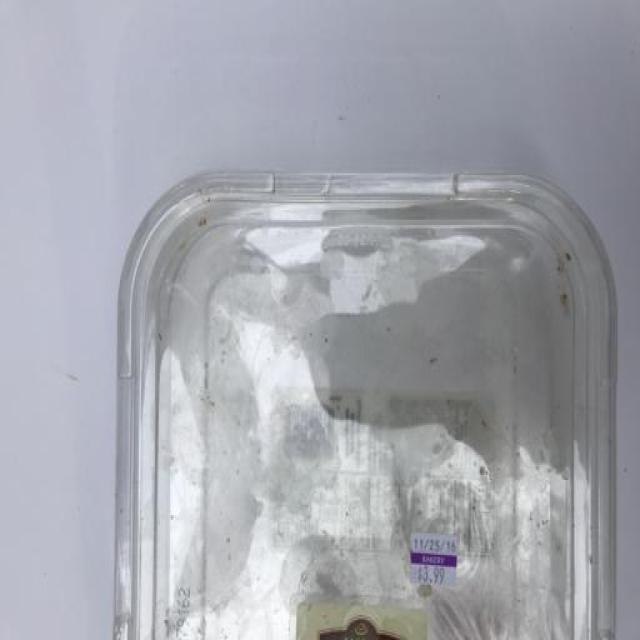plastic: (112, 168, 618, 638)
